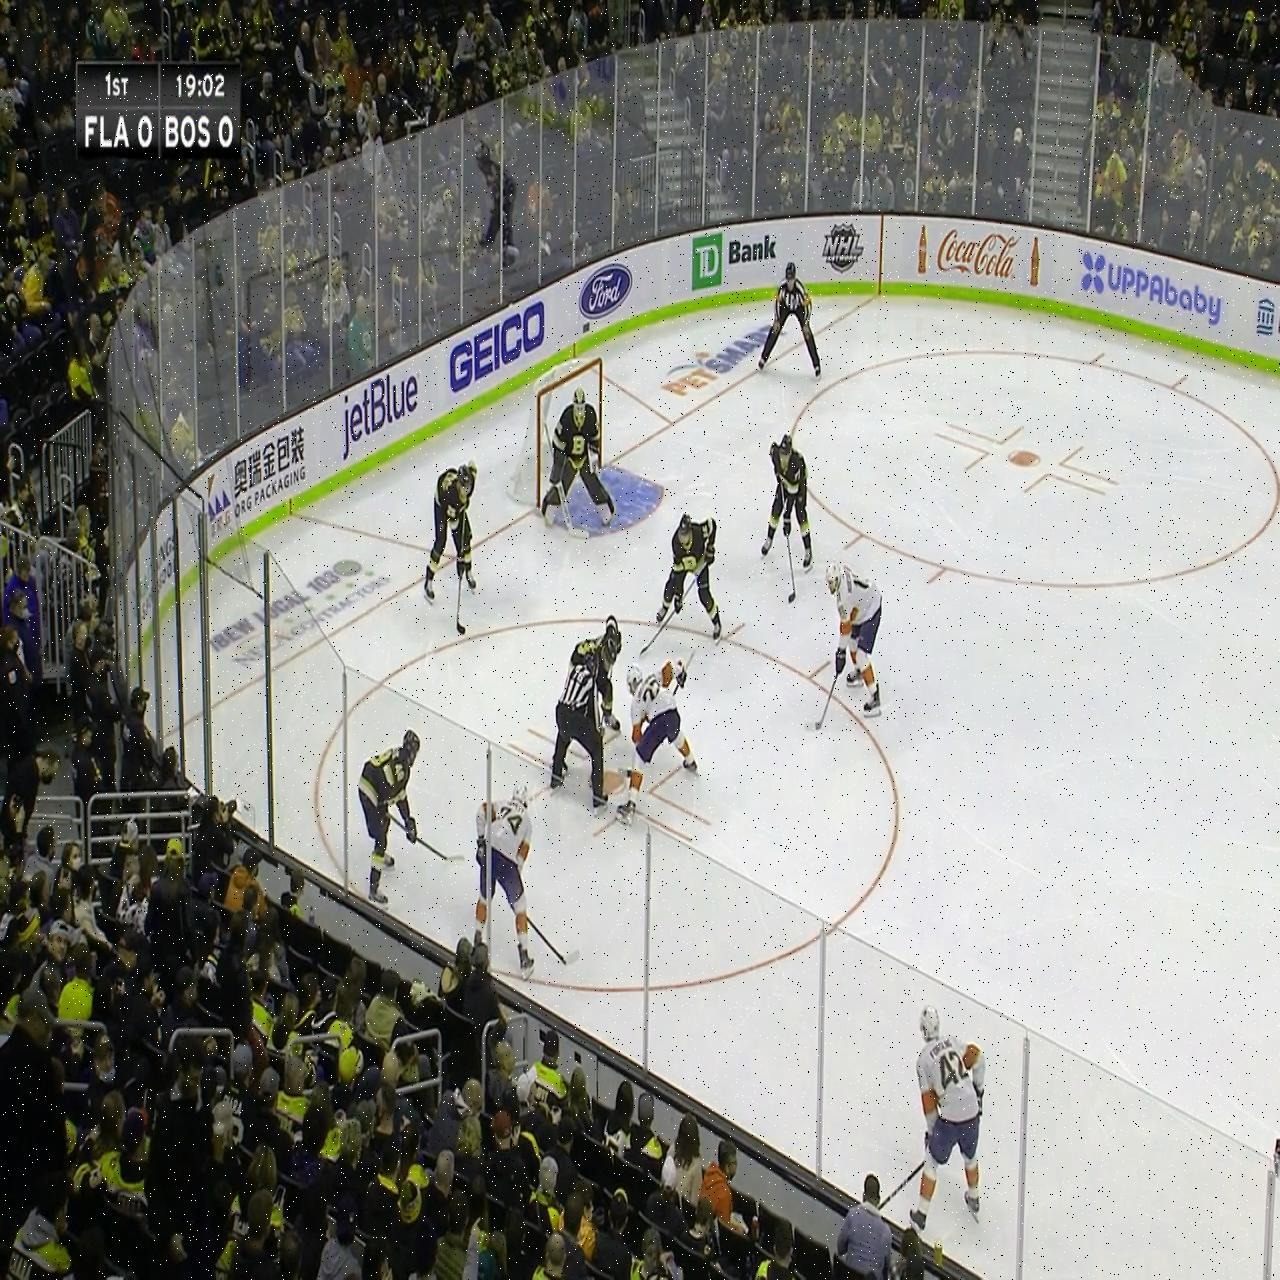Ad: (211, 517, 383, 693), (1078, 232, 1226, 348), (206, 404, 307, 552), (663, 304, 771, 422), (449, 288, 547, 415), (125, 496, 184, 666), (339, 354, 422, 470), (686, 220, 781, 301), (914, 234, 1058, 282), (578, 246, 635, 336), (817, 209, 872, 286)
